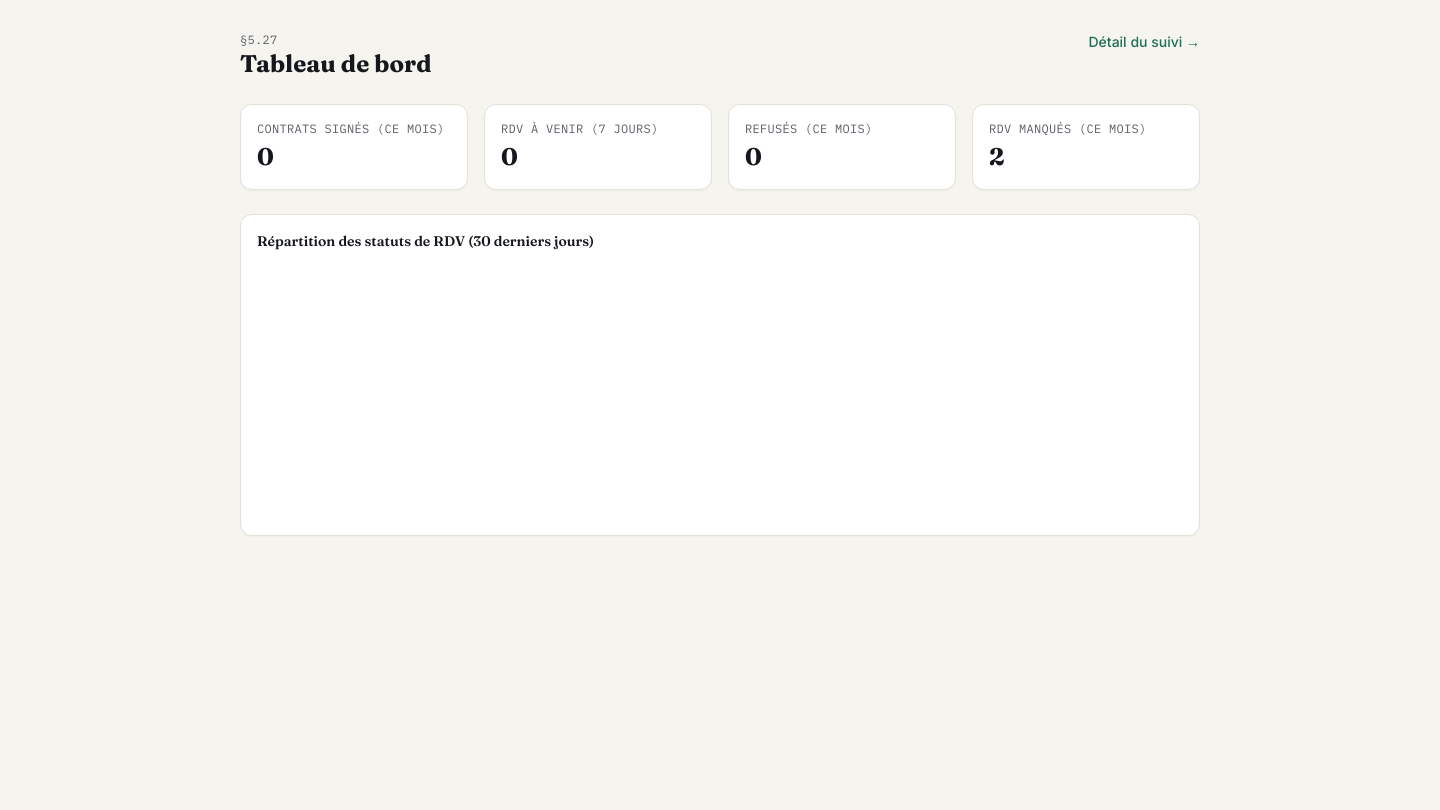
Test: /agent-rdv/dashboard — carte « RDV manqués (ce mois) » › valeur = attendance.missed du rapport du mois ; drill-down filtré sur « manqué » : même total, badges « Manqué »
Click the button "RDV manqués (ce mois) 2" at (1086, 147), box [972,104,1200,190]
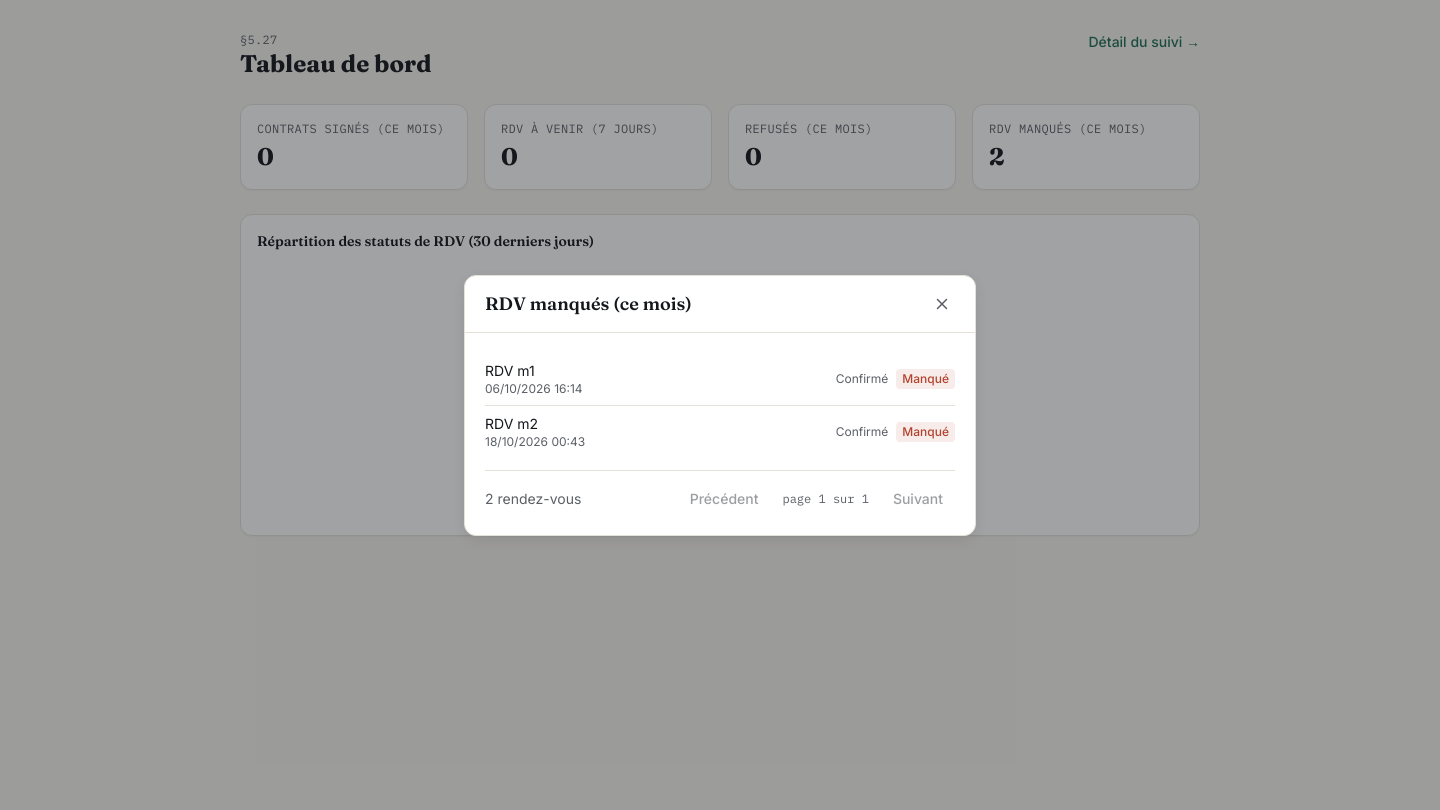
Result: the text "2 rendez-vous" is shown at [485,488,581,508]
Result: the text "RDV m1" is shown at [485,362,535,378]
Result: the text "RDV m2" is shown at [485,414,538,432]
